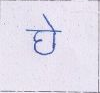e_matra: (41, 14, 57, 30)
